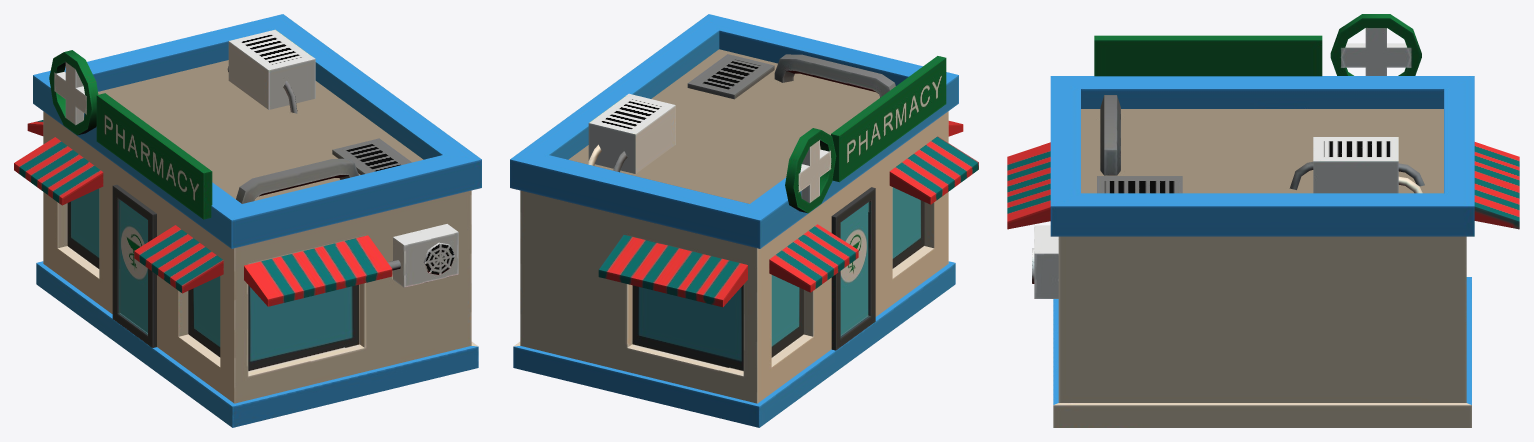
Rendered from Pharmacy.glb.
The picture shows the model from 3 angles, left to right: view 1: azimuth 30°, elevation 25°; view 2: azimuth 150°, elevation 25°; view 3: azimuth 270°, elevation 25°; orthographic projection. The views are drawn at different scales.
Visible parts, largest first — view 1: Object005; view 2: Object005; view 3: Object005.
Boxes of the visible parts, <box> form: Object005: <box>14,14,481,427</box>; Object005: <box>510,14,978,427</box>; Object005: <box>1007,14,1519,427</box>.
Size of the model in its own units: 2.12 by 1.86 by 3.09.
1 material, 1 textured.
